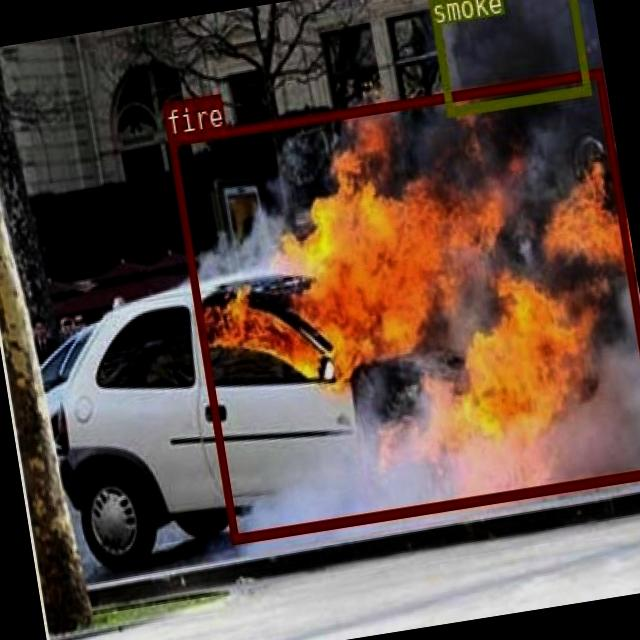fire: (167, 66, 640, 543)
smoke: (426, 0, 589, 114)
